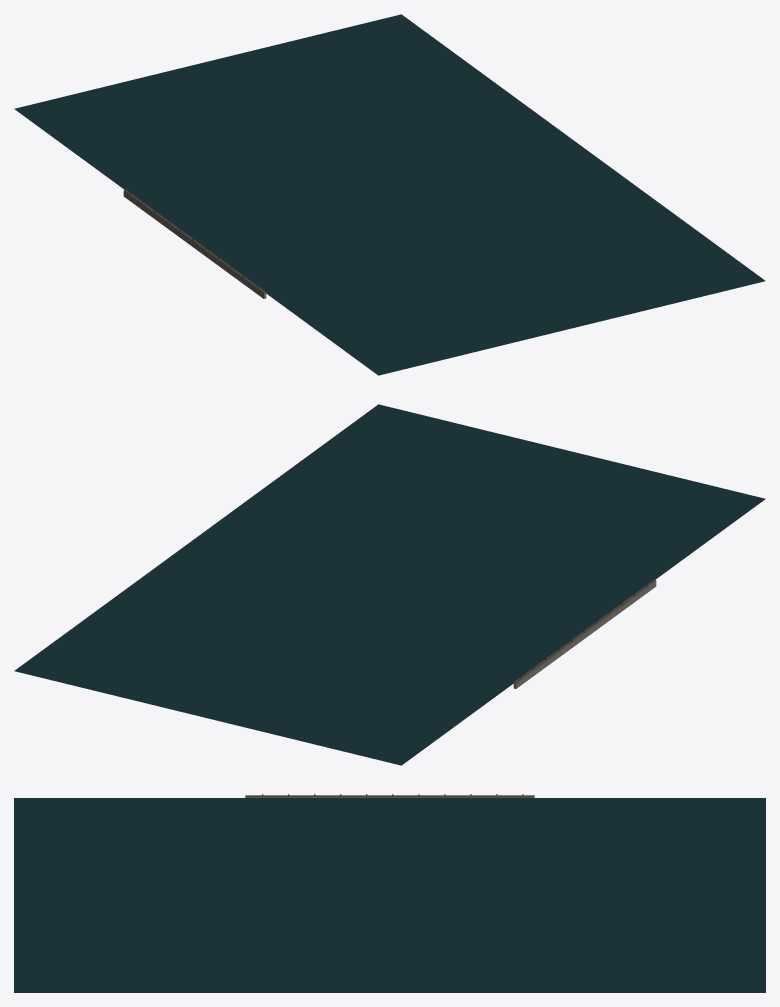
Rendered from SM_Art_HarborEdge_10000.gltf.
The picture shows the model from 3 angles, top to bottom: view 1: azimuth 30°, elevation 25°; view 2: azimuth 150°, elevation 25°; view 3: azimuth 270°, elevation 25°; orthographic projection. The views are drawn at different scales.
Parts seen in each view (by area): view 1: SM_Art_HarborEdge_10000; view 2: SM_Art_HarborEdge_10000; view 3: SM_Art_HarborEdge_10000.
Part boxes in pixels (bbox=[...]): SM_Art_HarborEdge_10000: bbox=[14, 14, 765, 375]; SM_Art_HarborEdge_10000: bbox=[14, 404, 765, 765]; SM_Art_HarborEdge_10000: bbox=[14, 794, 765, 992].
Size of the model in its own units: 161 by 3.02 by 260.
4 materials, 3 textured.
